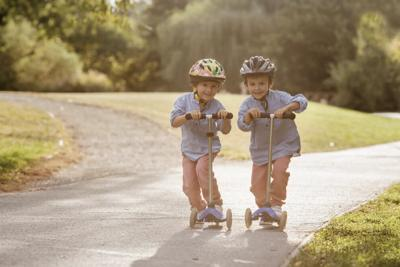With Helmet: (185, 53, 230, 101)
